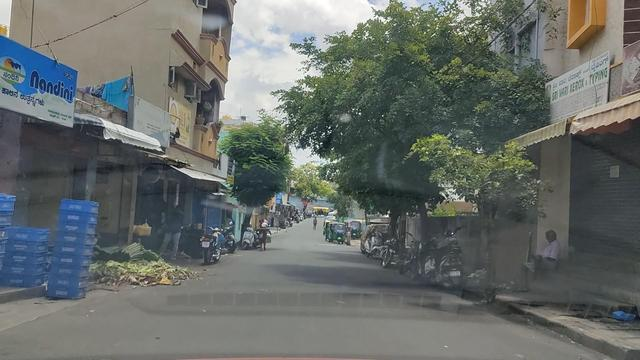LMV: (198, 225, 221, 265), (325, 223, 341, 244)
